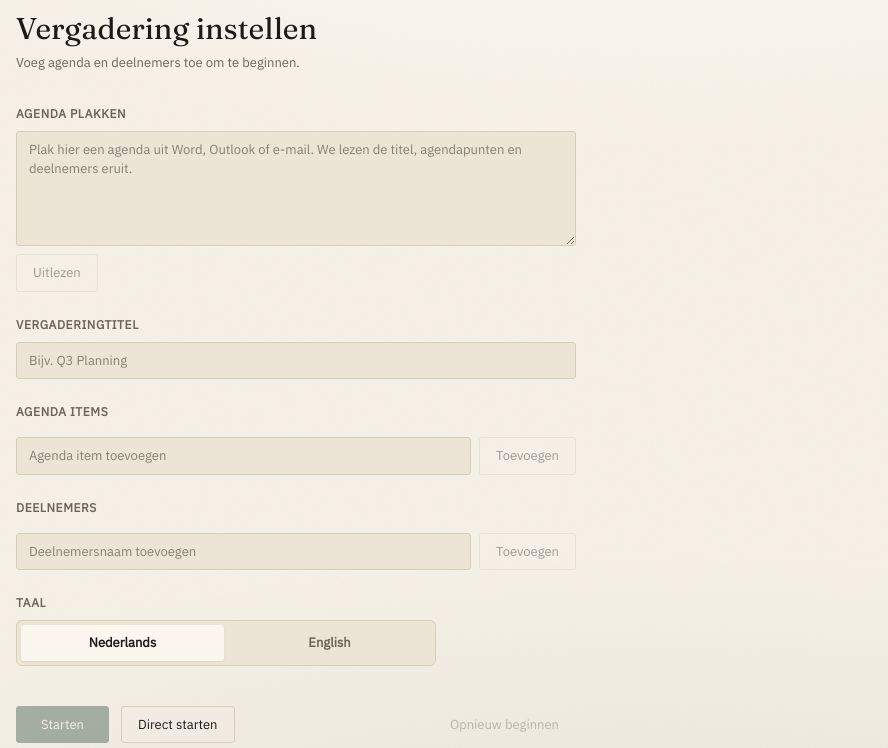
DraftScreen › disables the start button until the title is non-empty
Check: the button "Starten" is disabled, box [16,706,109,743]
Step 1. Type "Quarterly Planning" into the field labelled "Vergaderingtitel" → (296, 360), box [16,342,576,379]
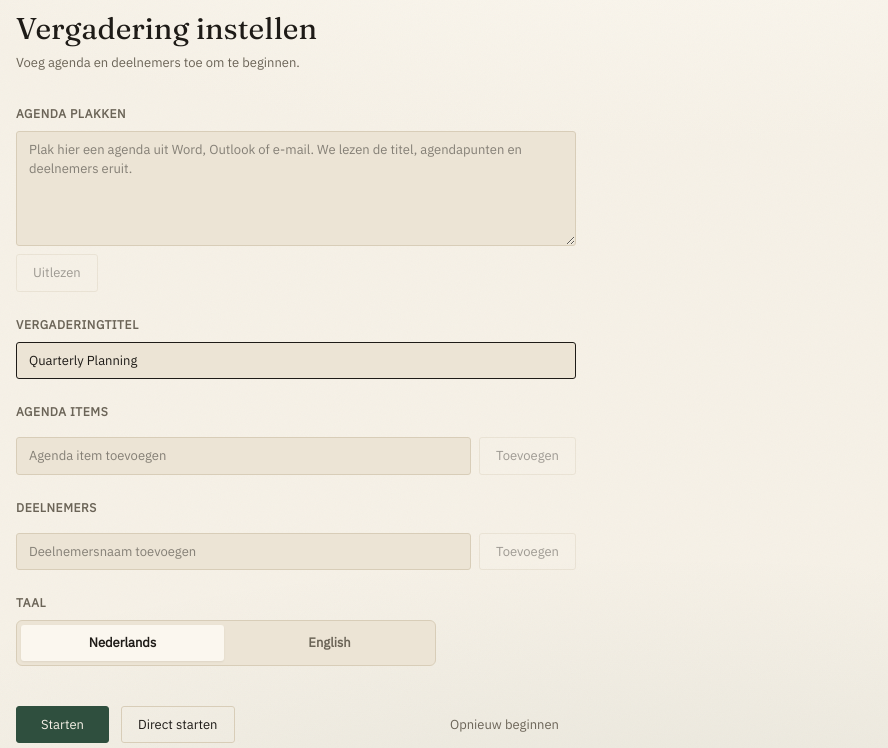
Check: the button "Starten" is enabled, box [16,706,109,743]
